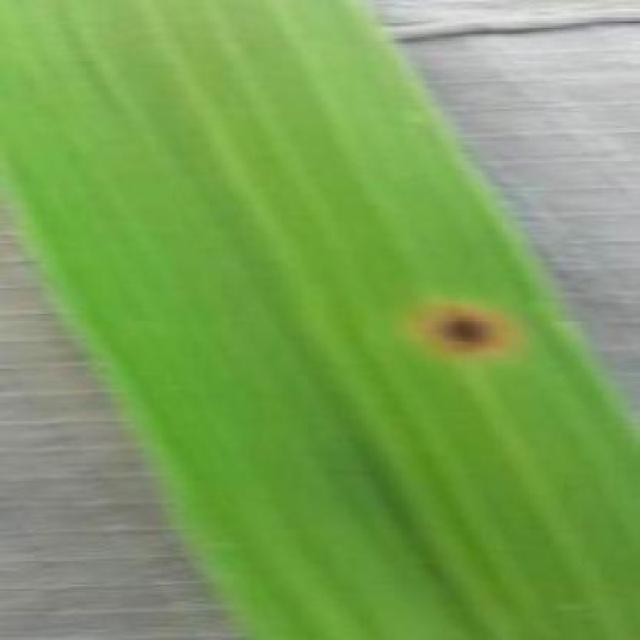Leaf_Blast: (388, 278, 521, 373)
